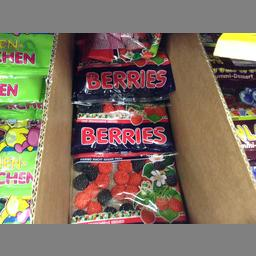candy: (71, 104, 178, 224), (76, 36, 170, 98)
